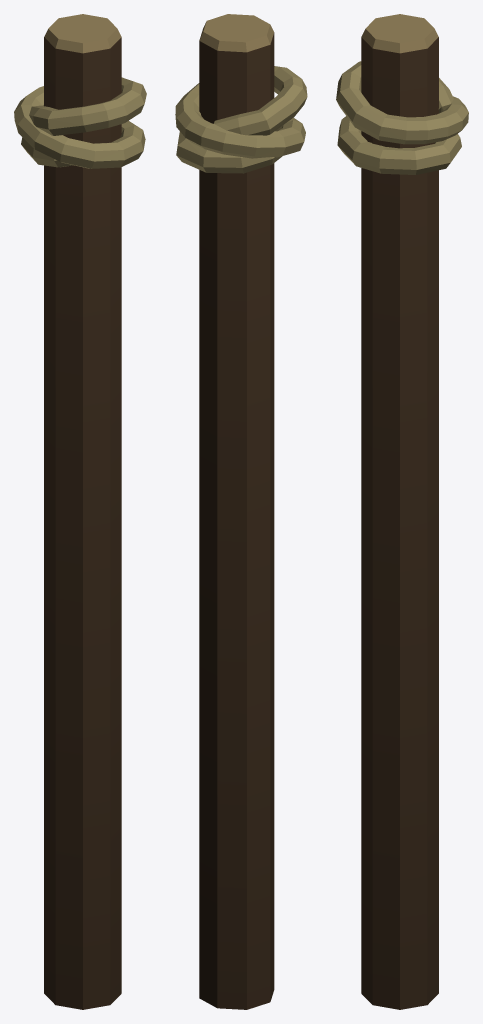
The model's file is post.glb.
The picture shows the model from 3 angles, left to right: view 1: azimuth 90°, elevation 25°; view 2: azimuth 150°, elevation 25°; view 3: azimuth 270°, elevation 25°; orthographic projection.
Size of the model in its own units: 0.3665 by 3.01 by 0.376.
